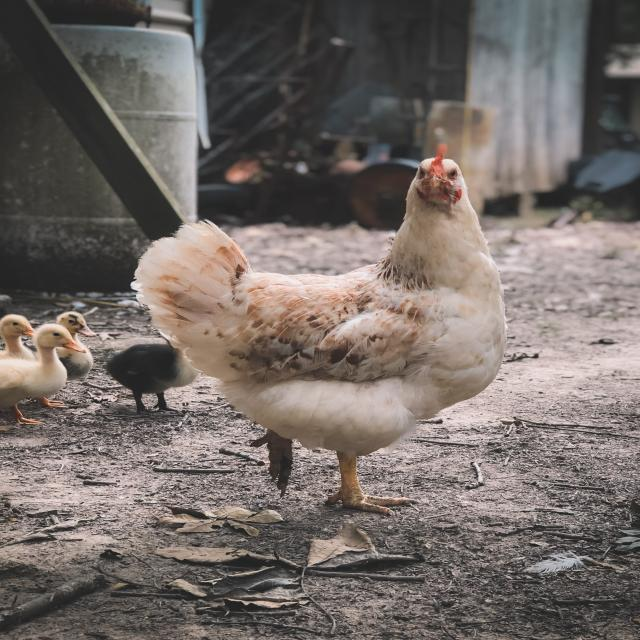animal: (133, 142, 507, 515), (4, 306, 108, 425)
